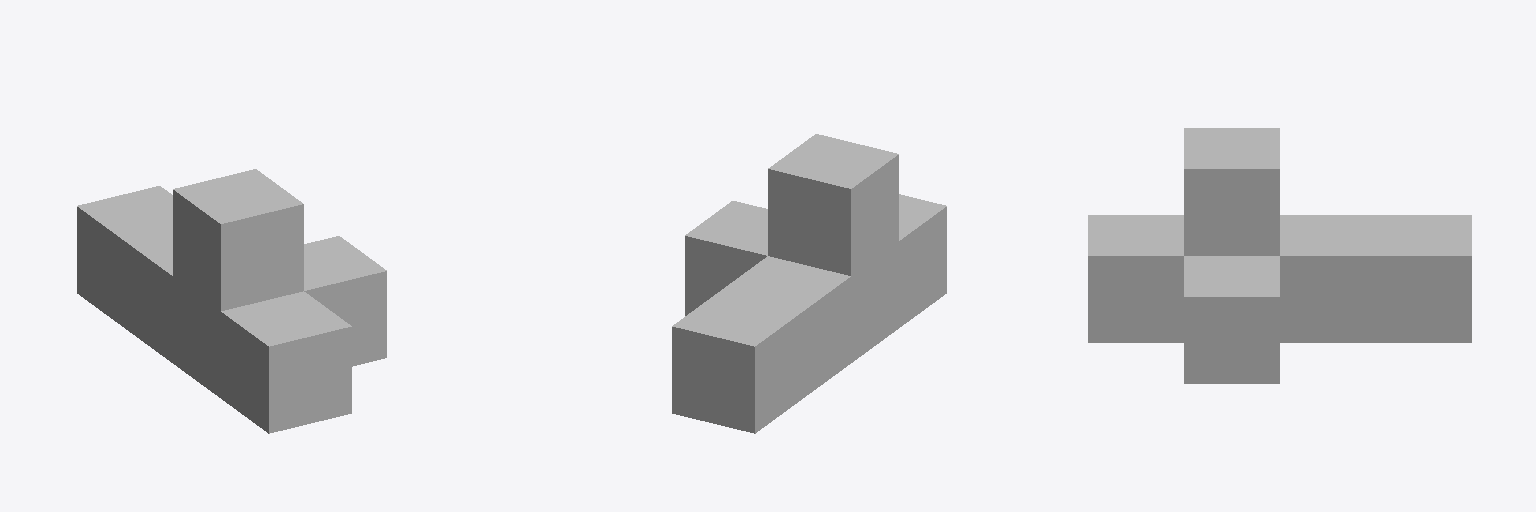
Rendered from simpleroom.obj.
3 renders of one model, left to right at view 1: azimuth 30°, elevation 25°; view 2: azimuth 150°, elevation 25°; view 3: azimuth 270°, elevation 25°, orthographic.
Parts seen in each view (by area): view 1: Cube; view 2: Cube; view 3: Cube.
Part boxes in pixels (bbox=[...]): Cube: bbox=[77, 169, 386, 433]; Cube: bbox=[672, 134, 946, 433]; Cube: bbox=[1088, 128, 1471, 383].
Bounding box in the file's own units: 4 × 4 × 8.